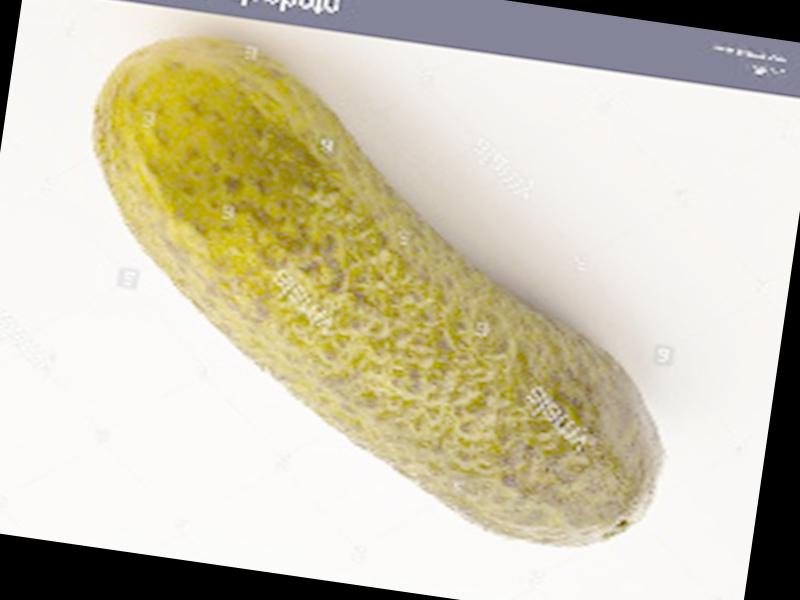Cucumber: (40, 24, 711, 556)
